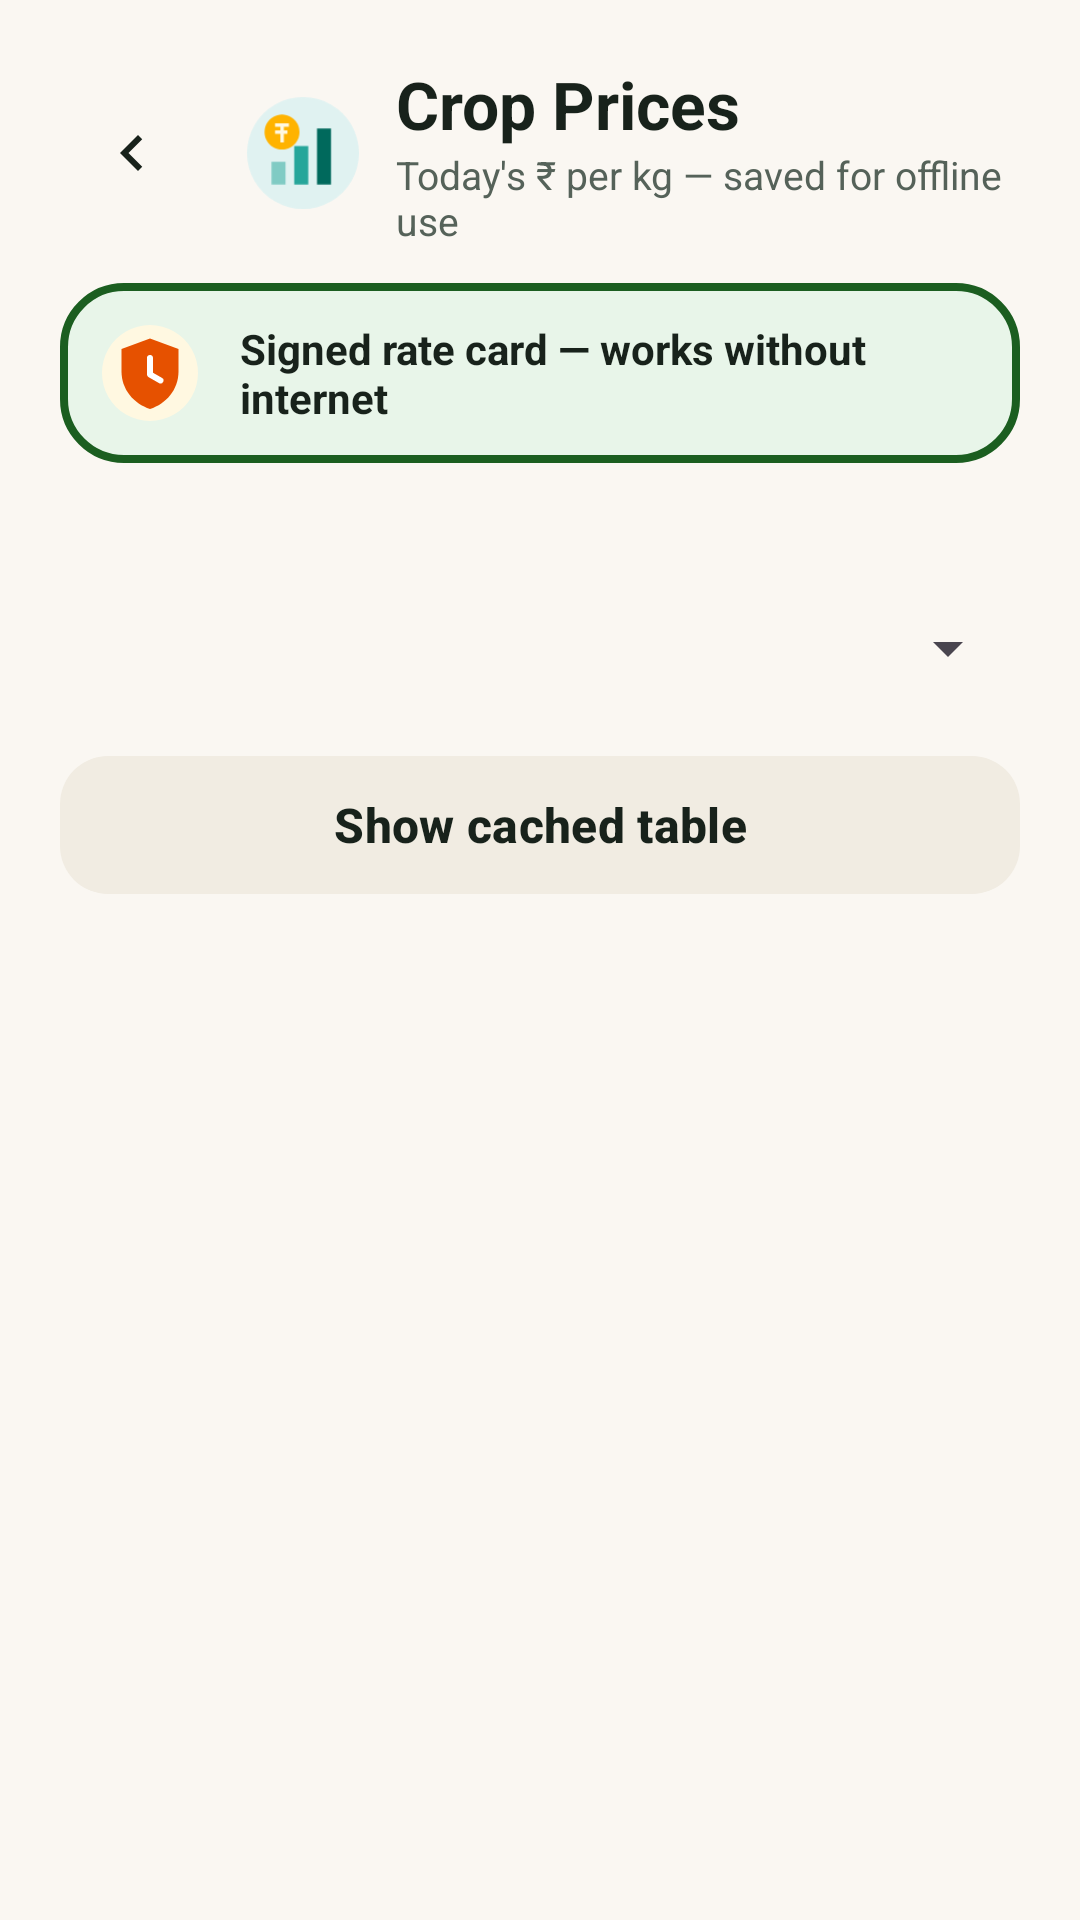

Named icons in this screenshot (1080 × 1920) and their centers, [x,y]:
Back: [131,153]
